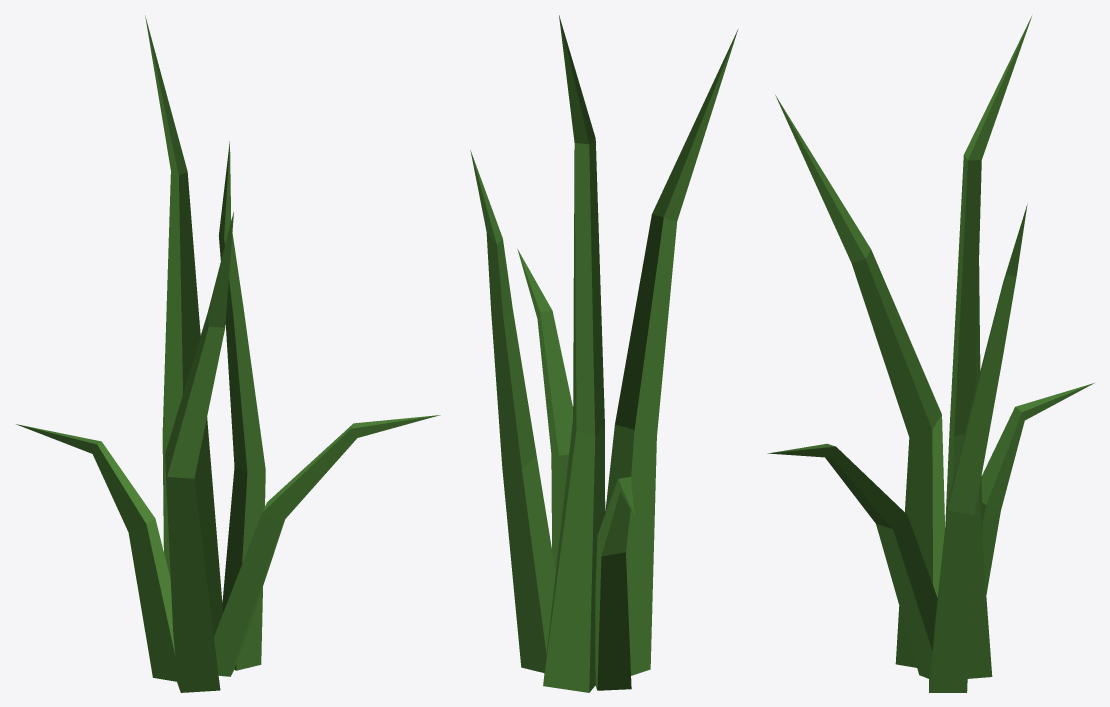
Rendered from Grass2FinalModel.fbx.
The picture shows the model from 3 angles, left to right: view 1: azimuth 30°, elevation 25°; view 2: azimuth 150°, elevation 25°; view 3: azimuth 270°, elevation 25°; orthographic projection. The views are drawn at different scales.
Parts seen in each view (by area): view 1: Grass2FinalModel; view 2: Grass2FinalModel; view 3: Grass2FinalModel.
Part boxes in pixels (x1,y1,x2,y2): Grass2FinalModel: (16, 15, 440, 692); Grass2FinalModel: (470, 15, 738, 692); Grass2FinalModel: (767, 16, 1094, 692).
Size of the model in its own units: 12.63 by 28.49 by 13.14.
